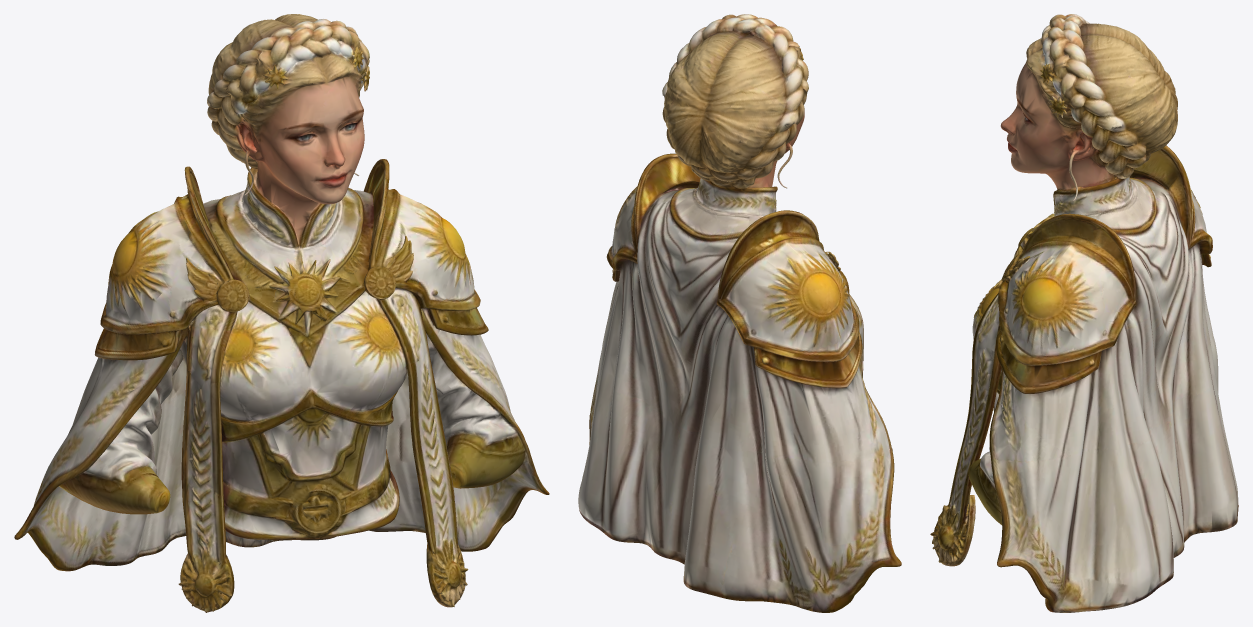
Rendered from hero_dawn.glb.
3 views of the same model, side by side, from view 1: azimuth 30°, elevation 25°; view 2: azimuth 150°, elevation 25°; view 3: azimuth 270°, elevation 25° (orthographic). The views are drawn at different scales.
Size of the model in its own units: 1.54 by 1.9 by 1.03.
Materials: 1 (1 with a texture image).
